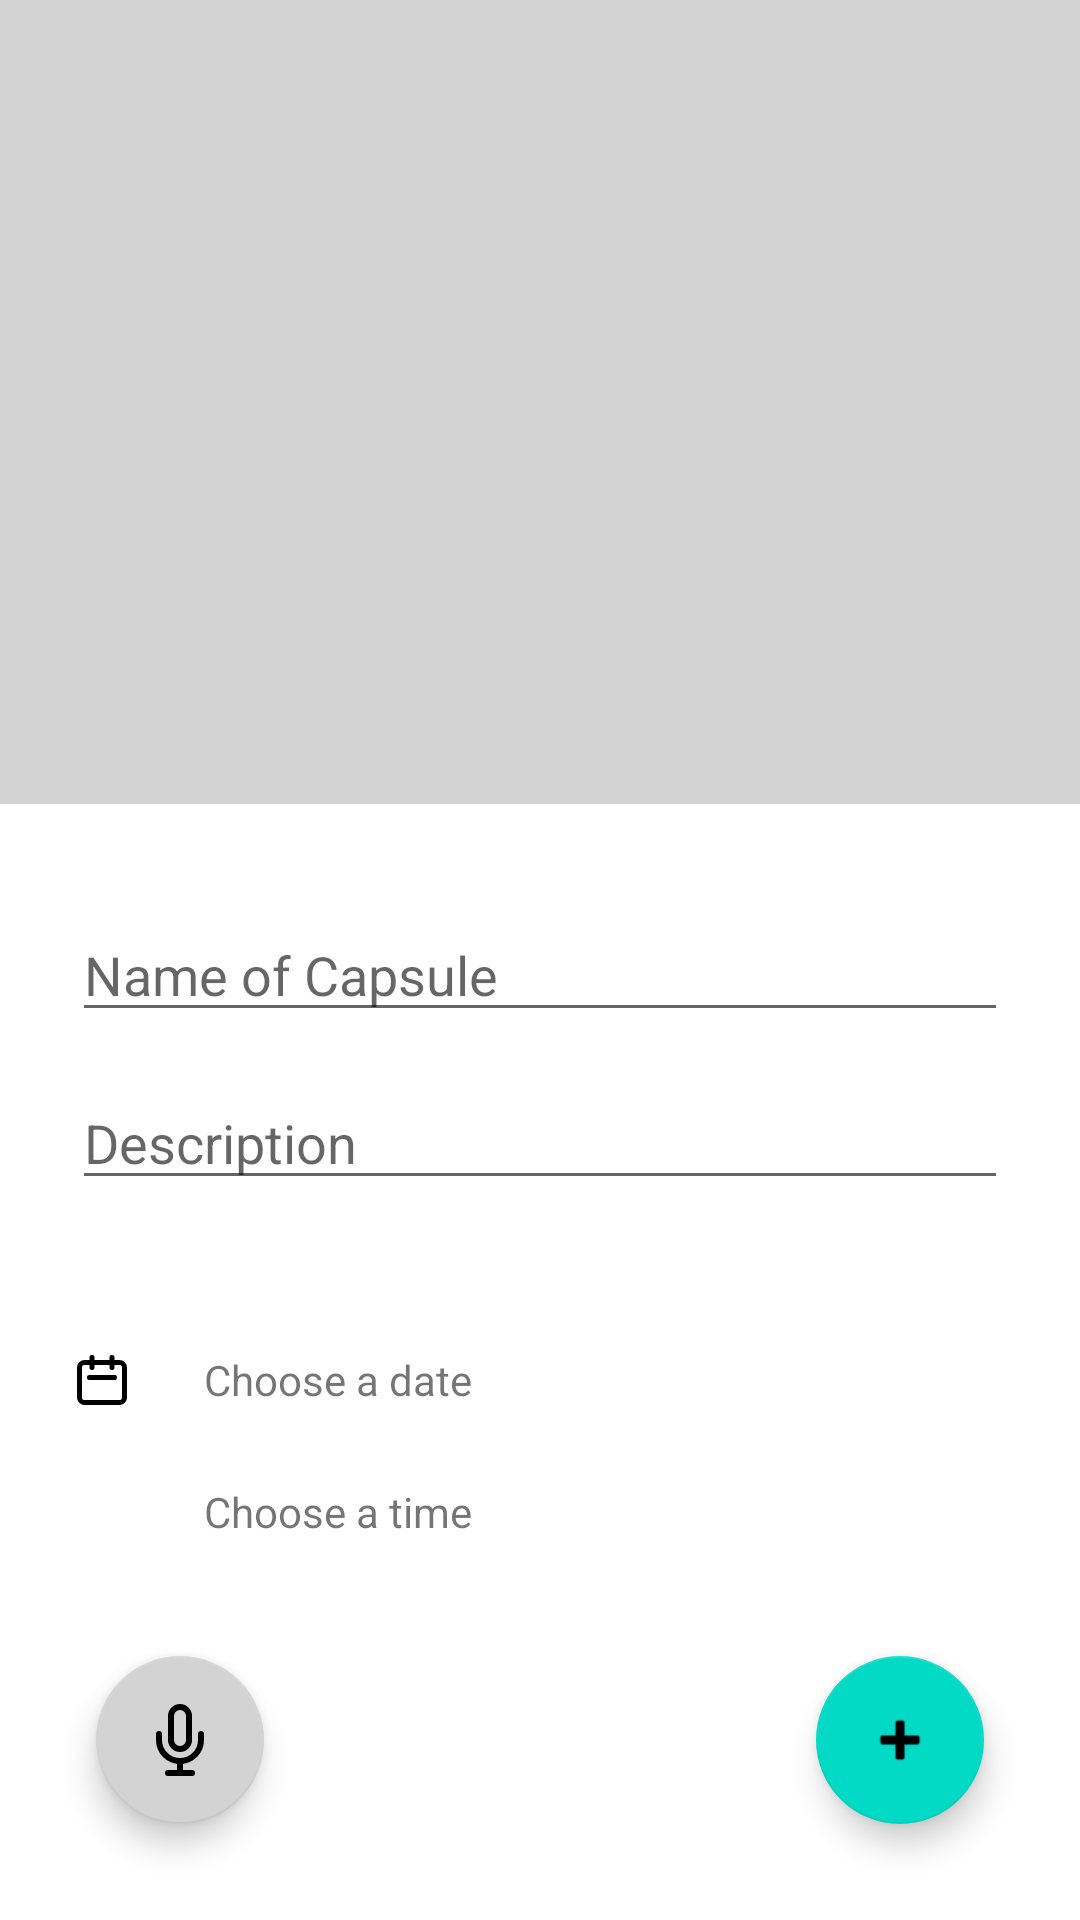

Point at icon controls on the screen. Image size 1080×1920, points as point (x, y).
Add: point (900, 1740)
calendar: point (102, 1380)
mic: point (180, 1740)
